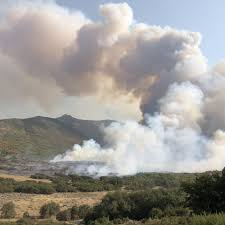smoke: (1, 7, 225, 118)
